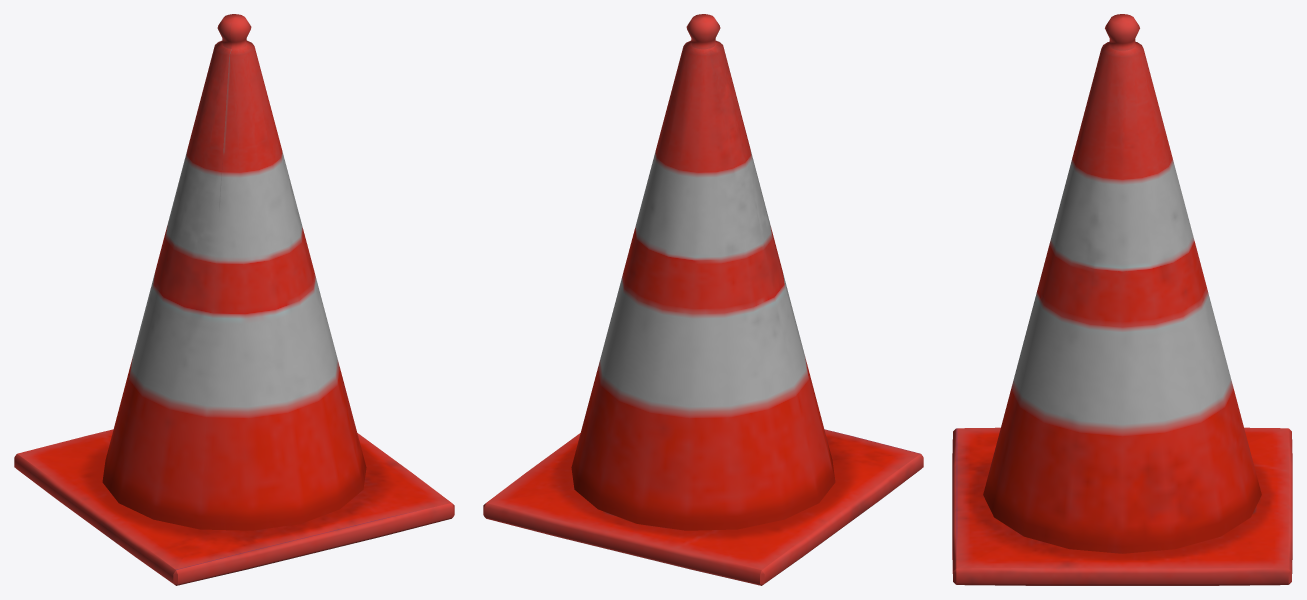
3 renders of one model, left to right at view 1: azimuth 30°, elevation 25°; view 2: azimuth 150°, elevation 25°; view 3: azimuth 270°, elevation 25°, orthographic. The views are drawn at different scales.
Parts seen in each view (by area): view 1: SM_Cone_LOD0; view 2: SM_Cone_LOD0; view 3: SM_Cone_LOD0.
Part boxes in pixels (x1,y1,x2,y2): SM_Cone_LOD0: (14,14,454,585); SM_Cone_LOD0: (483,14,923,585); SM_Cone_LOD0: (952,14,1292,585).
Bounding box in the file's own units: 39.96 × 39.96 × 64.47.
Materials: 1 (1 with a texture image).
